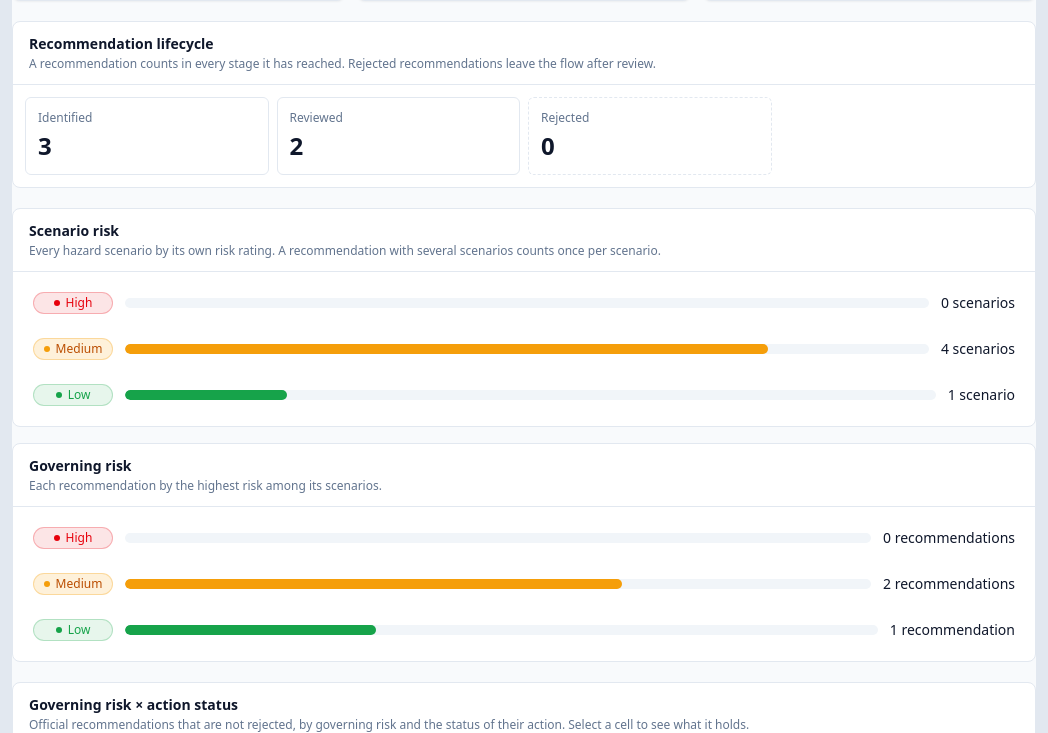
it: Command Center › selecting shows context without navigating; View carries the filter
The image size is (1048, 733).
(page scrolled)
Click the button "Medium 4 scenarios" at coordinates (524, 349), box [25, 330, 1023, 368]
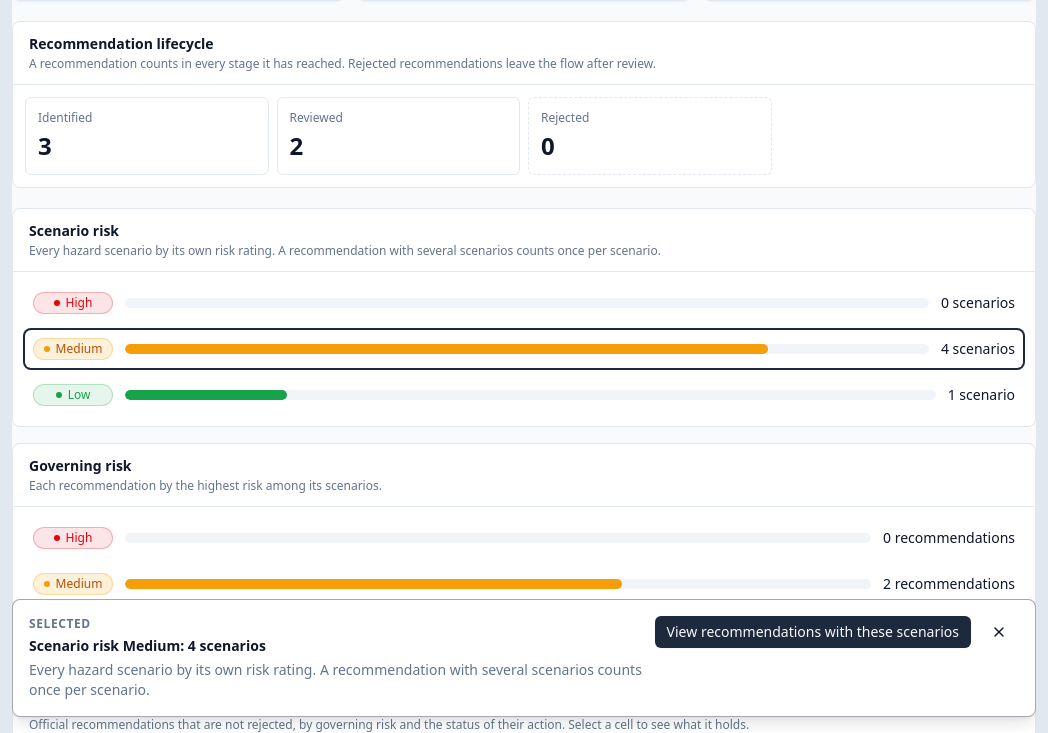
Expected: the link "View recommendations with these scenarios" is shown, [655, 616, 971, 648]
